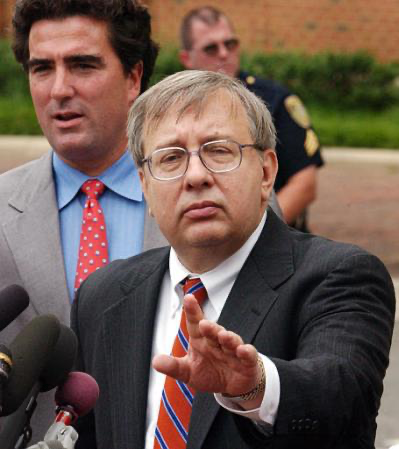Face: (141, 121, 268, 257), (20, 34, 122, 158), (197, 21, 243, 86)
